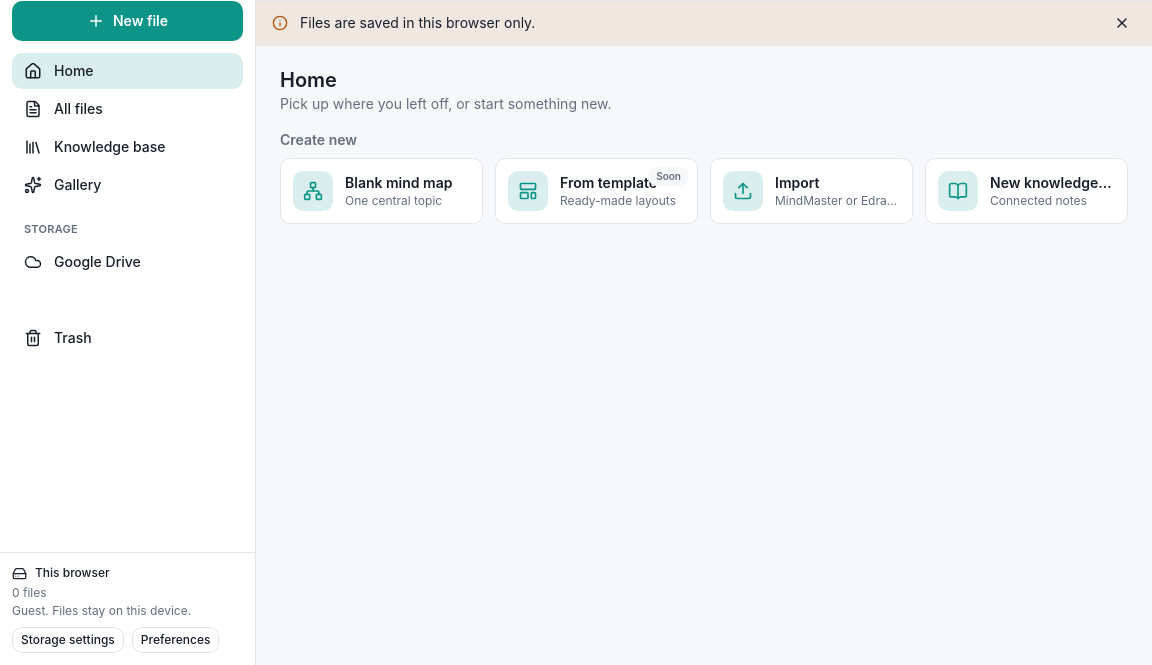
Test: importing from the screen › shows what was left out, and what to send samples of, instead of opening the map
Click the button "Import MindMaster or EdrawMind .emmx" at (812, 191), box [710,158,913,224]
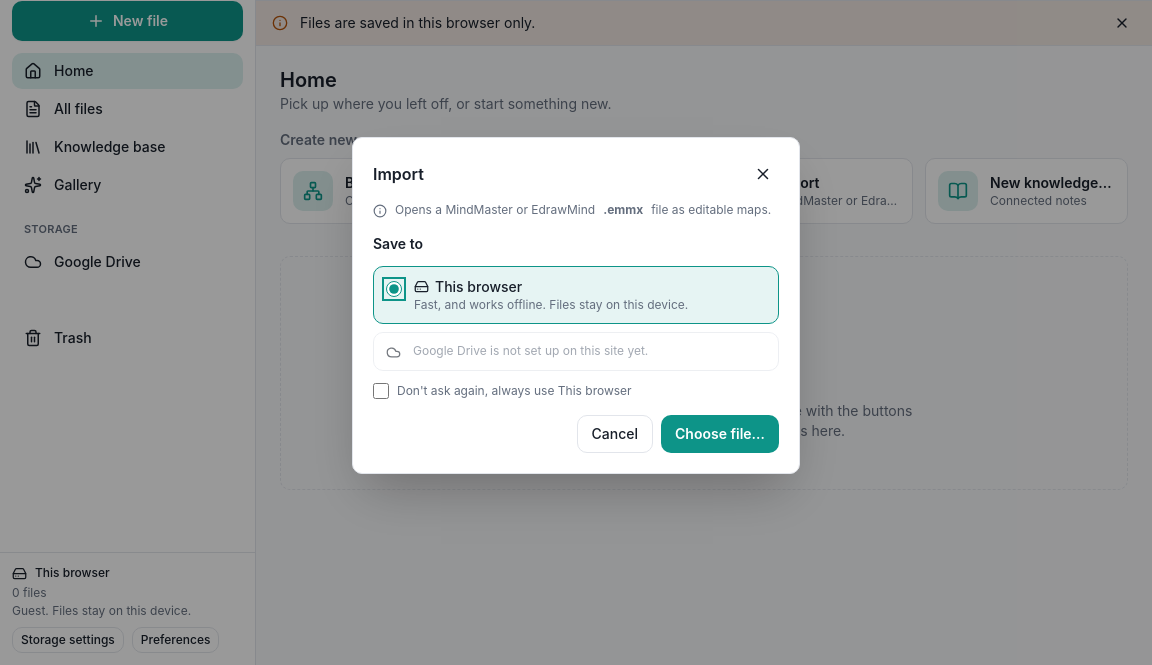
Click the button "Choose file…" at (720, 434), box [661,414,779,452]
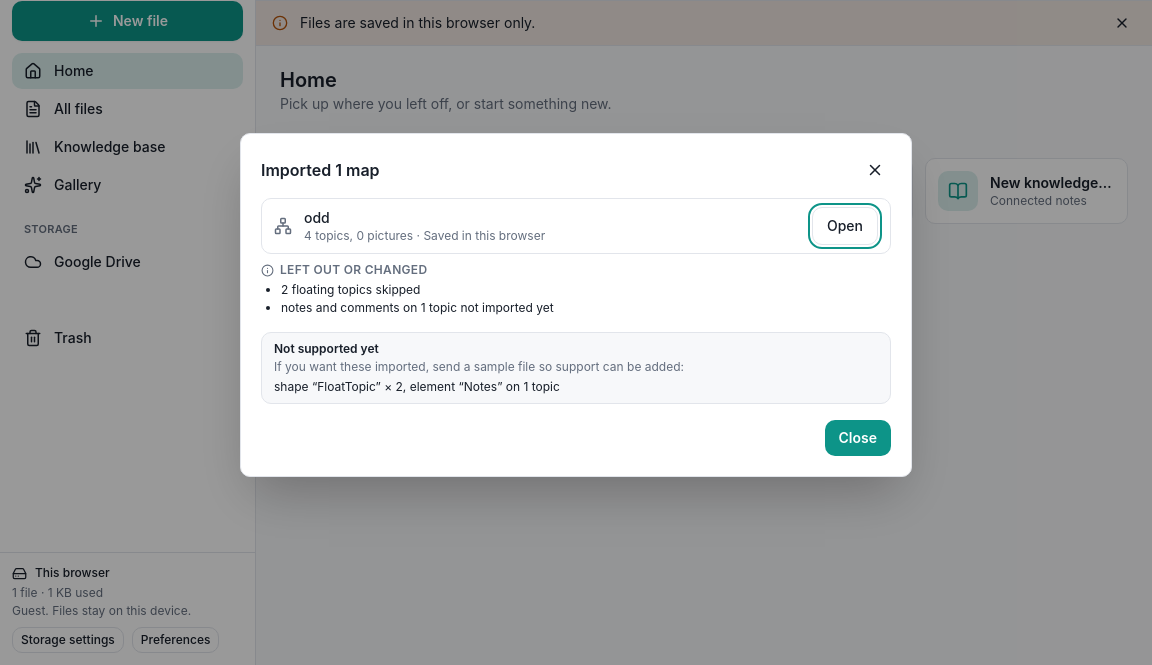
expect the text "odd" is shown: met, box [304,209,330,226]
expect the list item "2 floating topics skipped" is shown: met, box [281,282,420,297]
expect the list item "notes and comments on 1 topic not imported yet" is shown: met, box [281,300,554,315]
Click the button "Open" at (845, 226), box [812,207,878,245]
(page scrolled)
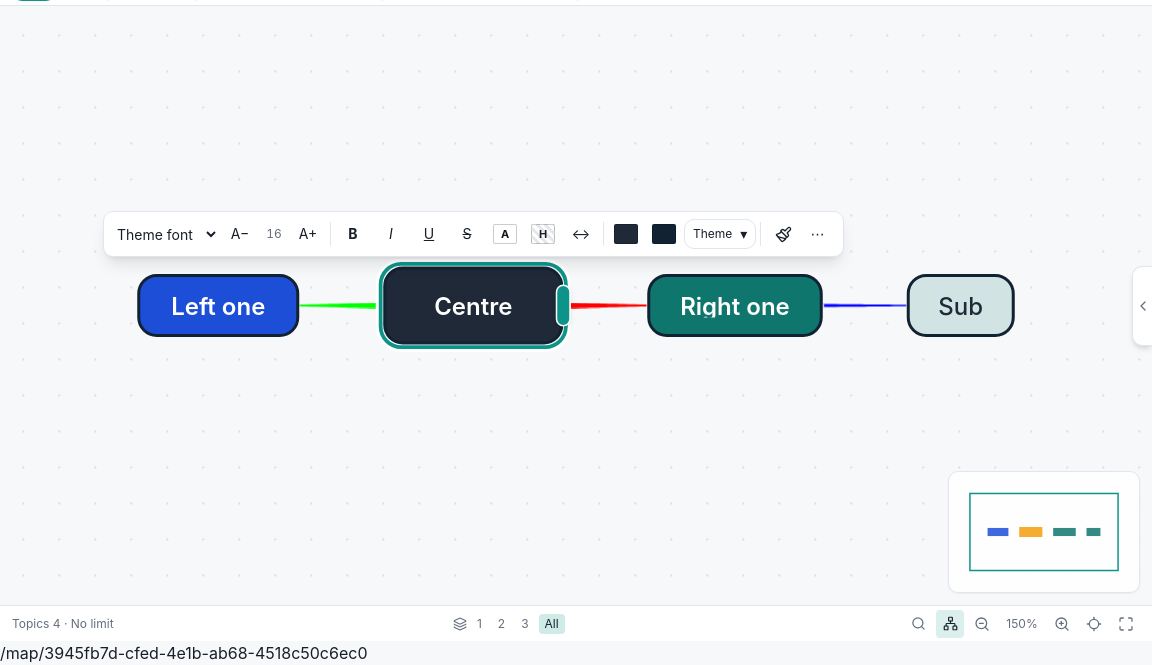
expect the text with test id "where" shows "/map/": met, box [0,643,368,663]
